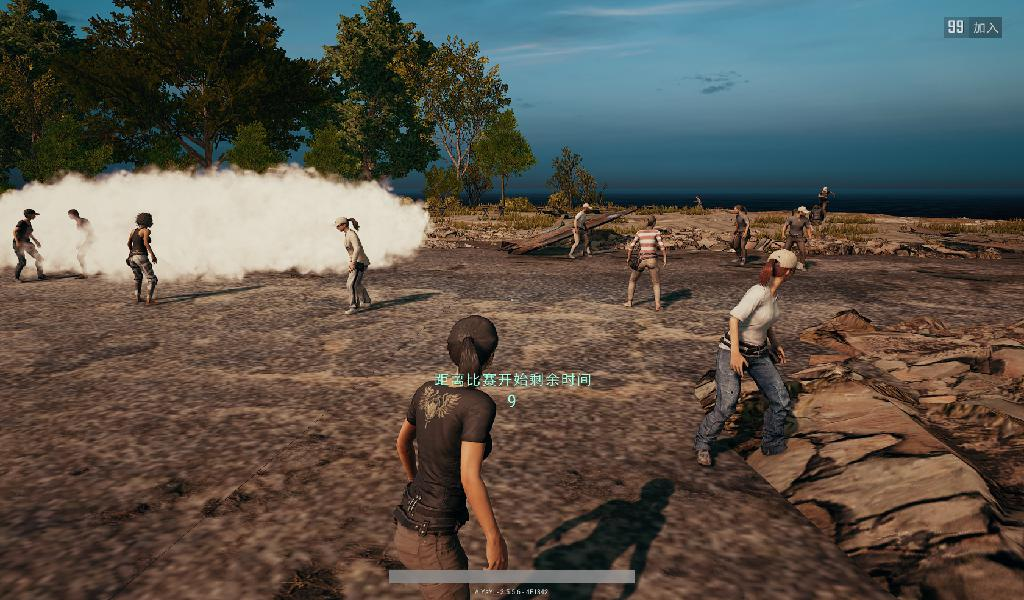Target Person: (394, 315, 510, 600), (698, 248, 806, 472), (330, 215, 373, 317), (625, 213, 667, 312), (124, 211, 161, 306), (11, 208, 46, 286), (65, 204, 96, 281), (780, 206, 809, 271), (568, 202, 595, 259), (729, 204, 750, 271), (819, 181, 835, 227)
